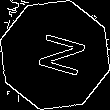N_W: (25, 29, 85, 81)
